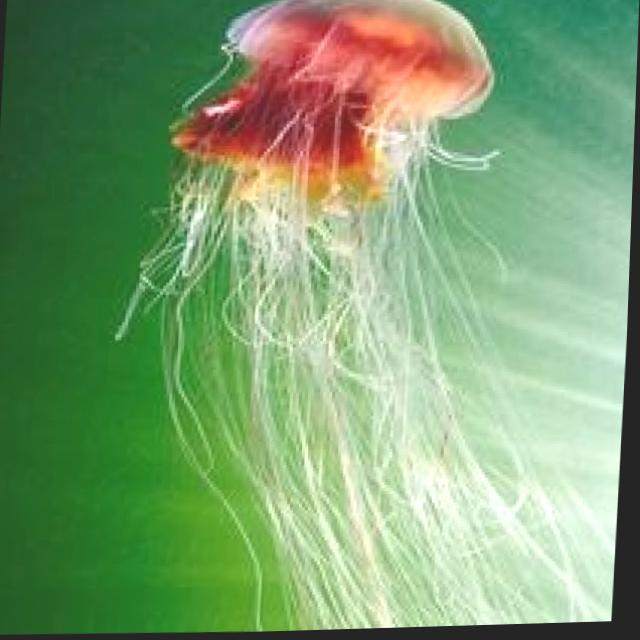Human: (166, 0, 503, 241)
